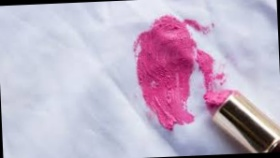lipstick: (126, 17, 224, 129)
